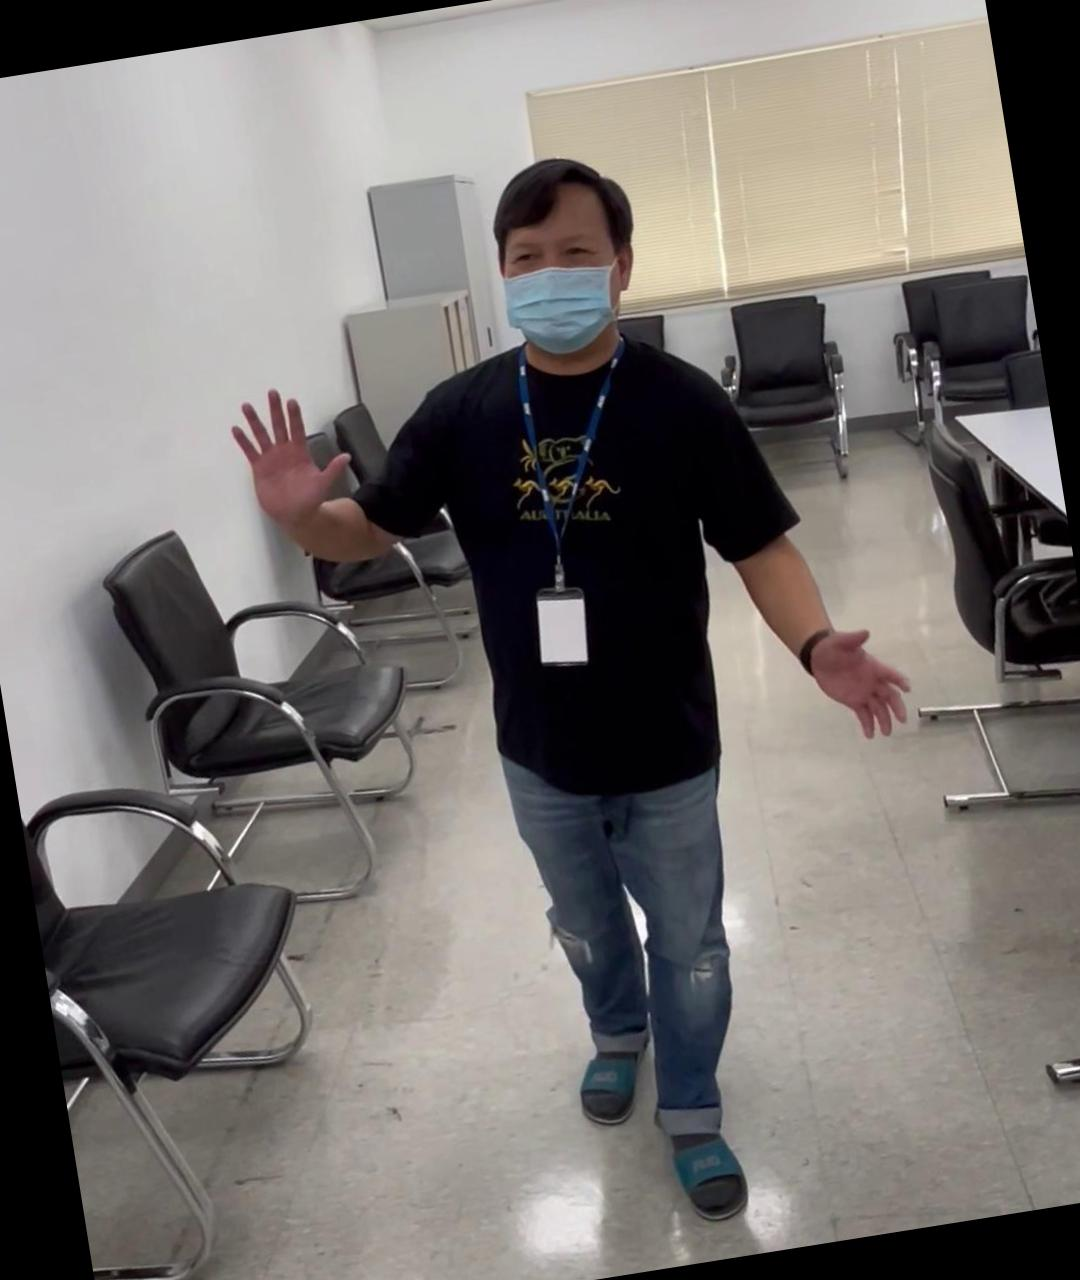No-gloves: (224, 372, 363, 542), (798, 614, 919, 754)
